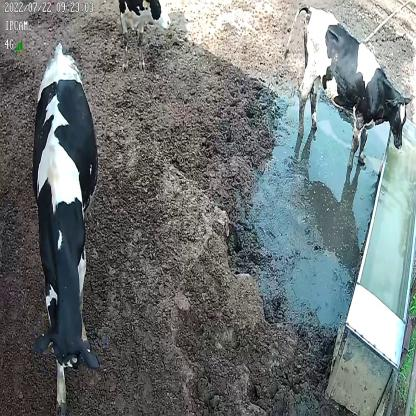cow: (32, 42, 100, 411), (285, 3, 414, 166)
